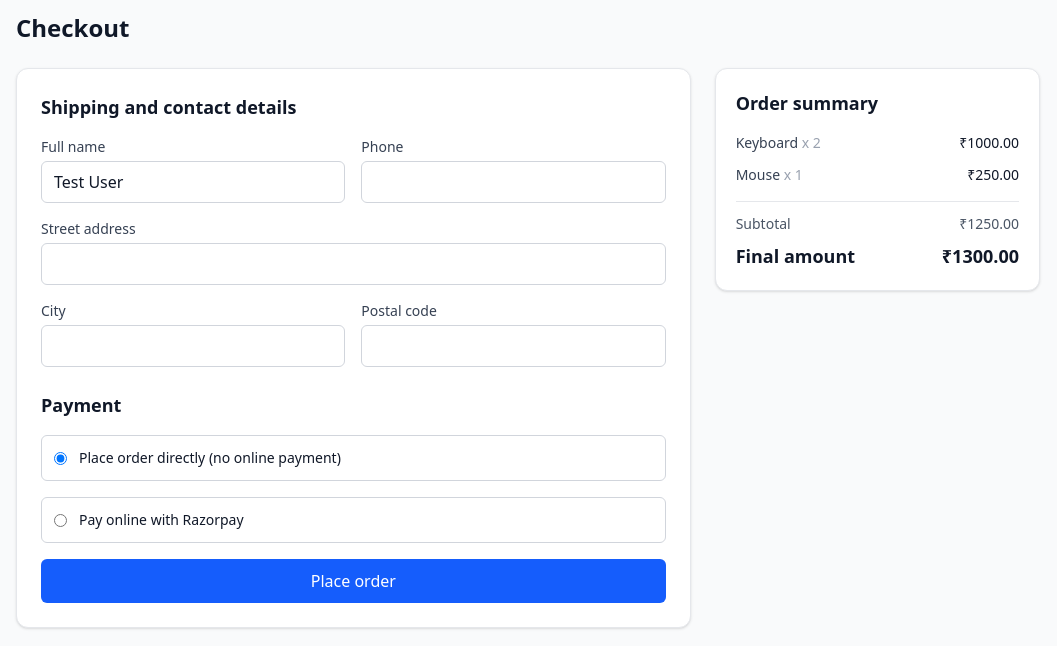
Test case: CheckoutPage › page content › defaults to a direct order and switches the button label for Razorpay
Expected: the radio button labelled "Place order directly (no online payment)" is checked, [54,452,67,464]
Expected: the button "Place order" is shown, [41,559,666,603]
Step 1. Click the radio button labelled "Pay online with Razorpay" → x=60, y=520, box [54,514,67,526]
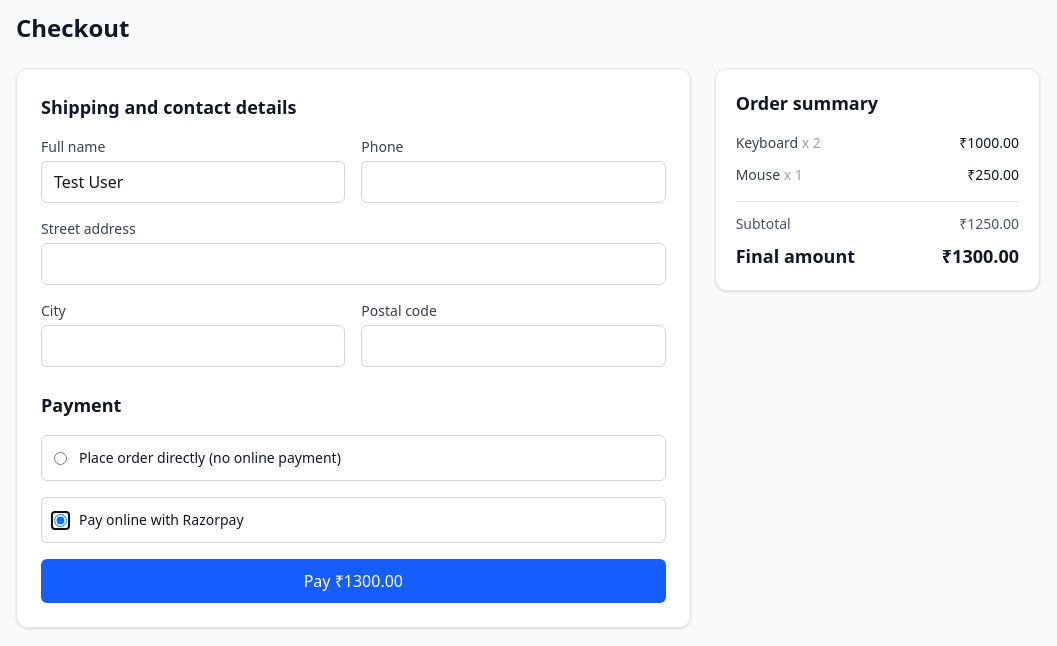
Expected: the radio button labelled "Pay online with Razorpay" is checked, [54,514,67,526]
Expected: the button "Pay ₹1300.00" is shown, [41,559,666,603]
